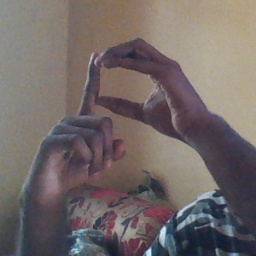P: (53, 35, 204, 174)
